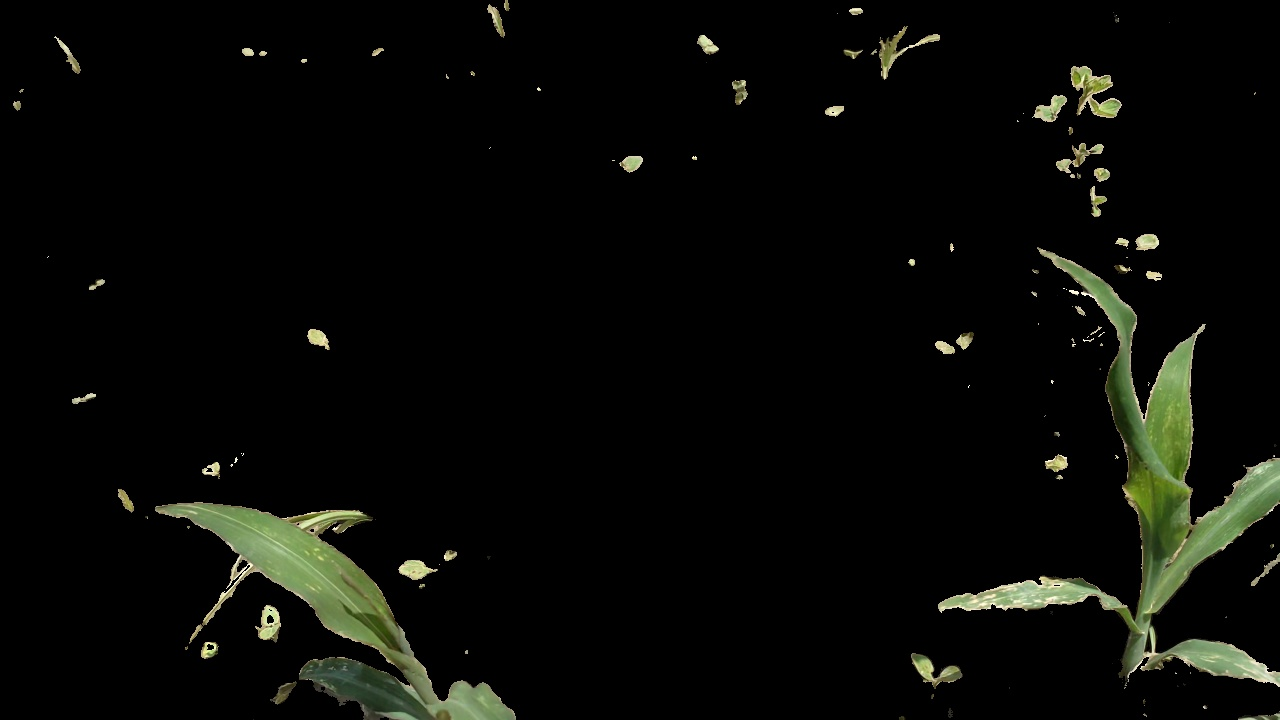crop: (921, 247, 1280, 720), (176, 482, 528, 718)
weed: (1036, 61, 1131, 139), (845, 20, 946, 91), (388, 542, 472, 587), (911, 645, 978, 698), (1102, 229, 1178, 255), (932, 324, 978, 362), (1052, 147, 1102, 175), (253, 599, 283, 644)
